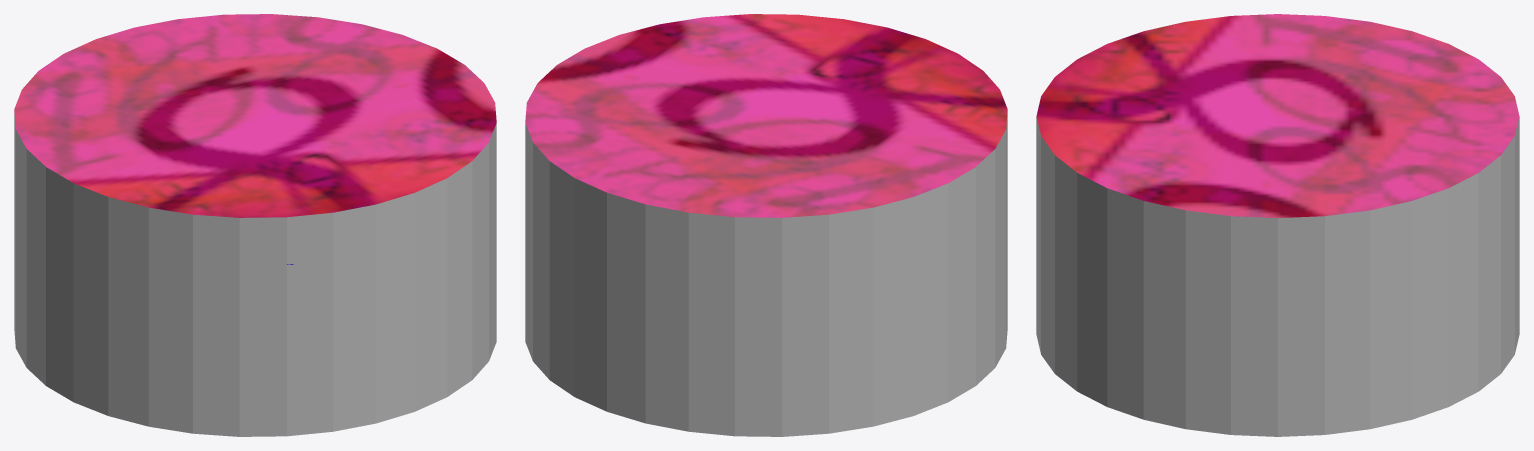
File: level2_topf.fbx
3 renders of one model, left to right at view 1: azimuth 30°, elevation 25°; view 2: azimuth 150°, elevation 25°; view 3: azimuth 270°, elevation 25°, orthographic.
Parts seen in each view (by area): view 1: Cylinder; view 2: Cylinder; view 3: Cylinder.
Part boxes in pixels (bbox=[...]): Cylinder: bbox=[14, 14, 496, 436]; Cylinder: bbox=[525, 14, 1007, 436]; Cylinder: bbox=[1036, 14, 1519, 436].
Size of the model in its own units: 48 by 24 by 48.
